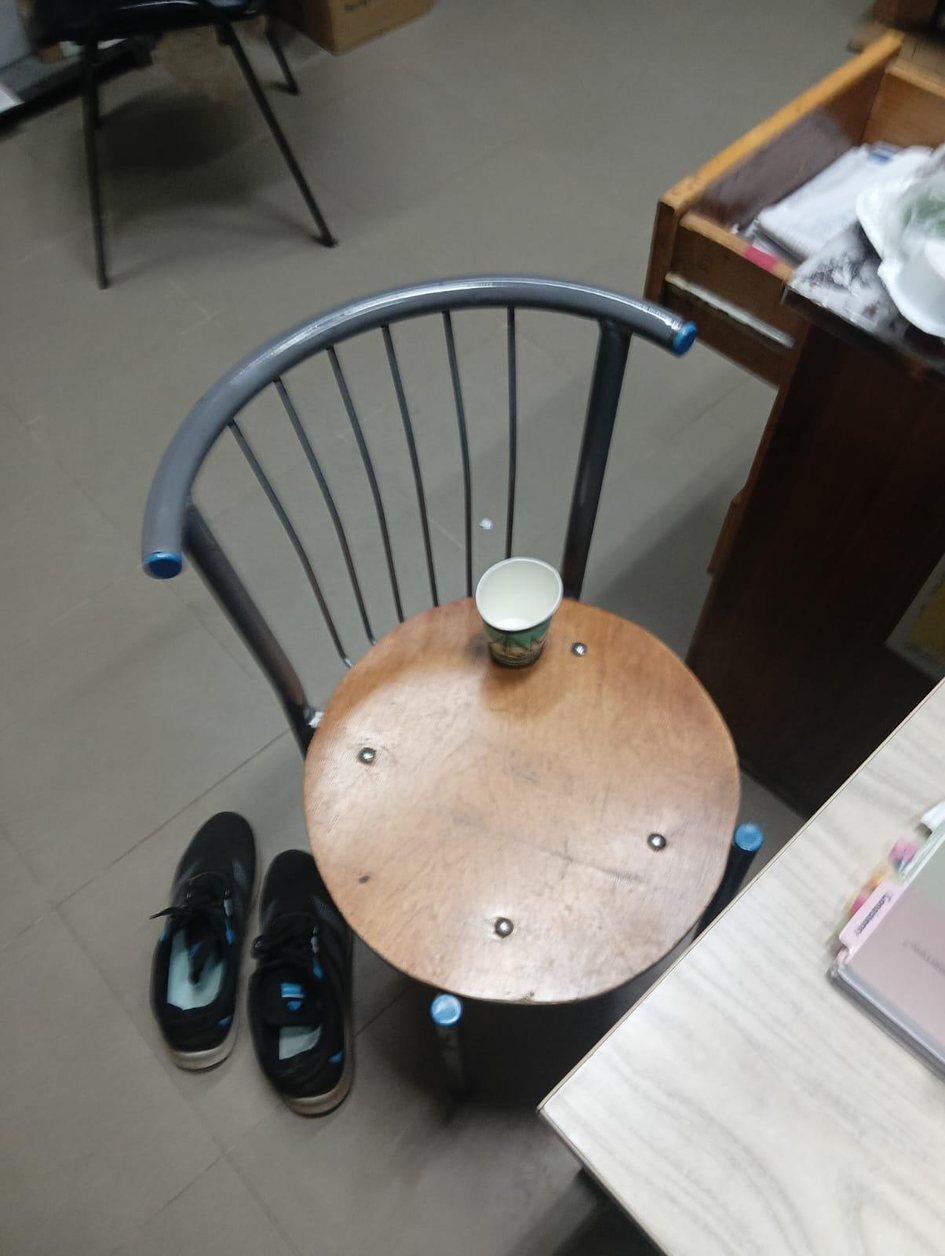cup: (476, 557, 562, 666)
